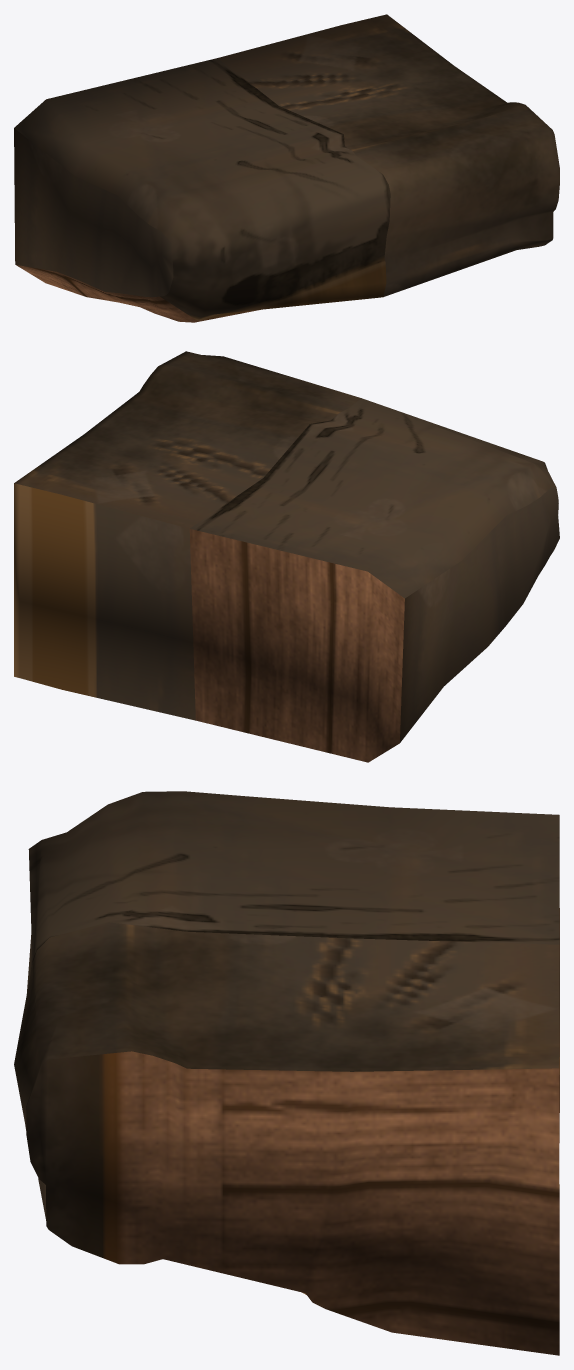
The model's file is Platforms floor LEFT EDGE.fbx.
3 renders of one model, top to bottom at view 1: azimuth 30°, elevation 25°; view 2: azimuth 150°, elevation 25°; view 3: azimuth 270°, elevation 25°, orthographic. The views are drawn at different scales.
Parts seen in each view (by area): view 1: LP++.001; view 2: LP++.001; view 3: LP++.001.
Part boxes in pixels (x1=…): LP++.001: x1=14, y1=14, x2=559, y2=322; LP++.001: x1=14, y1=351, x2=559, y2=762; LP++.001: x1=14, y1=791, x2=559, y2=1355.
Size of the model in its own units: 265 by 132 by 212.
